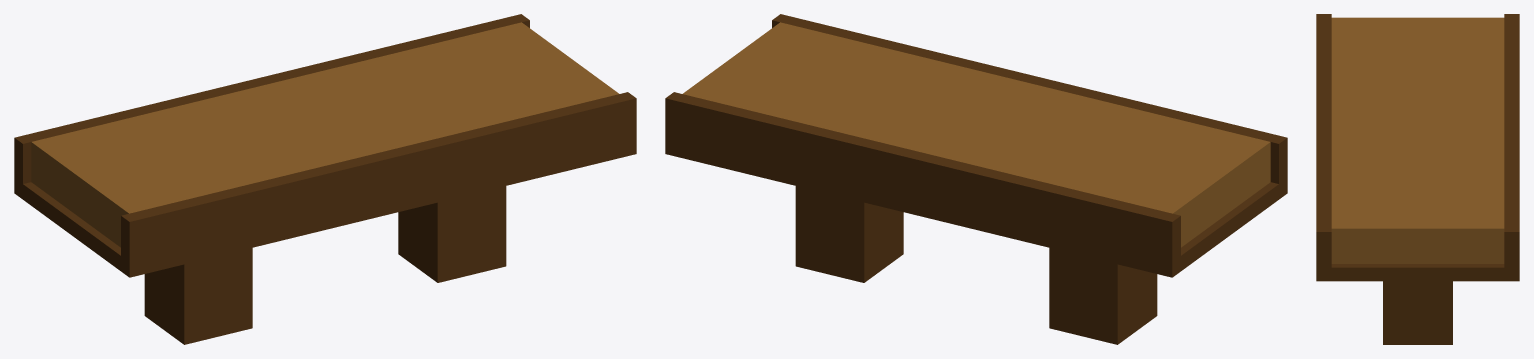
The model's file is ForestTreeTrunkTable.fbx.
The picture shows the model from 3 angles, left to right: view 1: azimuth 30°, elevation 25°; view 2: azimuth 150°, elevation 25°; view 3: azimuth 270°, elevation 25°; orthographic projection. The views are drawn at different scales.
Visible parts, largest first — view 1: ForestTreeTrunkTable; view 2: ForestTreeTrunkTable; view 3: ForestTreeTrunkTable.
Boxes of the visible parts, x1,y1,x2,y2 form: ForestTreeTrunkTable: [14, 14, 636, 344]; ForestTreeTrunkTable: [665, 14, 1287, 344]; ForestTreeTrunkTable: [1316, 14, 1519, 344].
Size of the model in its own units: 34.59 by 11.3 by 13.61.
